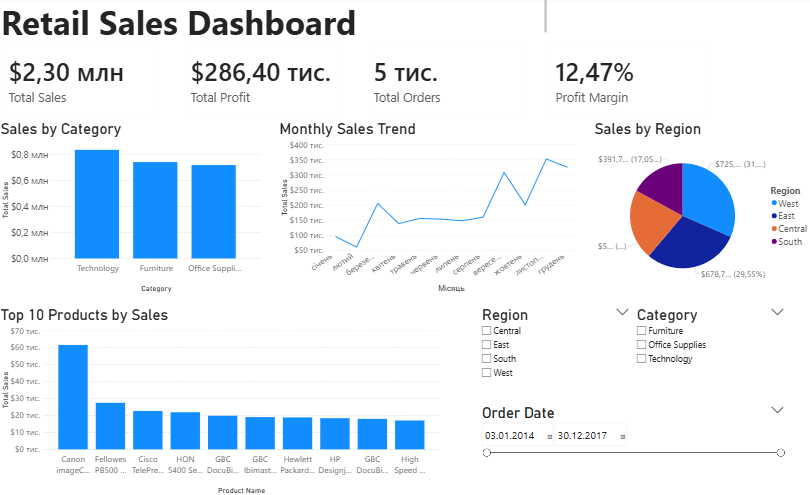

Layout of this report page (visuals, bound fields, positions):
{"tool":"powerbi","page":{"name":"Sales Overview","canvas":[2600,1600],"ordinal":0},"visuals":[{"type":"cardVisual","fields":{"Data":["Clean_Data.Total Profit"]},"box":[583.3,134.2,531.2,257],"z":0},{"type":"cardVisual","fields":{"Data":["Clean_Data.Total Orders"]},"box":[1166.7,134.2,531,257.9],"z":1000},{"type":"cardVisual","fields":{"Data":["Clean_Data.Profit Margin"]},"box":[1750,134.2,531,257.9],"z":2000},{"type":"clusteredColumnChart","title":"Sales by Category","fields":{"Category":["Clean_Data.Category"],"Y":["Clean_Data.Total Sales"]},"box":[0,393.5,845.2,558.1],"z":3000},{"type":"pieChart","title":"Sales by Region","fields":{"Category":["Clean_Data.Region"],"Y":["Clean_Data.Total Sales"]},"box":[1900,393.5,700,558.1],"z":4000},{"type":"lineChart","title":"Monthly Sales Trend","fields":{"Y":["Clean_Data.Total Sales"],"Category":["Clean_Data.Order Date.Варіація.Ієрархія дат.Місяць"]},"box":[893.5,393.5,958.1,558.1],"z":5000},{"type":"clusteredColumnChart","title":"Top 10 Products by Sales","fields":{"Category":["Clean_Data.Product Name"],"Y":["Clean_Data.Total Sales"]},"box":[0,990.3,1416.1,609.7],"z":6000},{"type":"slicer","fields":{"Values":["Clean_Data.Region"]},"box":[1533.1,983,494.7,252.6],"z":7000},{"type":"slicer","fields":{"Values":["Clean_Data.Category"]},"box":[2027.8,983,494.7,252.6],"z":8000},{"type":"slicer","fields":{"Values":["Clean_Data.Order Date"]},"box":[1532.3,1296.8,990.3,232.3],"z":9000},{"type":"textbox","box":[0,0,1757.9,134.2],"z":10000},{"type":"cardVisual","fields":{"Data":["Clean_Data.Total Sales"]},"box":[0,134.2,531,257.9],"z":11000}]}

Visuals, with their boxes in screenshot pixels (x1, y1, x2, y2), scaled from the page's 2600x1600 canvas onto the 810x495 screenshot:
cardVisual - Clean_Data.Total Profit: box=[182, 42, 347, 121]
cardVisual - Clean_Data.Total Orders: box=[363, 42, 529, 121]
cardVisual - Clean_Data.Profit Margin: box=[545, 42, 711, 121]
"Sales by Category" clusteredColumnChart: box=[0, 122, 263, 294]
"Sales by Region" pieChart: box=[592, 122, 809, 294]
"Monthly Sales Trend" lineChart: box=[278, 122, 577, 294]
"Top 10 Products by Sales" clusteredColumnChart: box=[0, 306, 441, 494]
slicer - Clean_Data.Region: box=[478, 304, 632, 382]
slicer - Clean_Data.Category: box=[632, 304, 786, 382]
slicer - Clean_Data.Order Date: box=[477, 401, 786, 473]
textbox: box=[0, 0, 548, 42]
cardVisual - Clean_Data.Total Sales: box=[0, 42, 165, 121]
